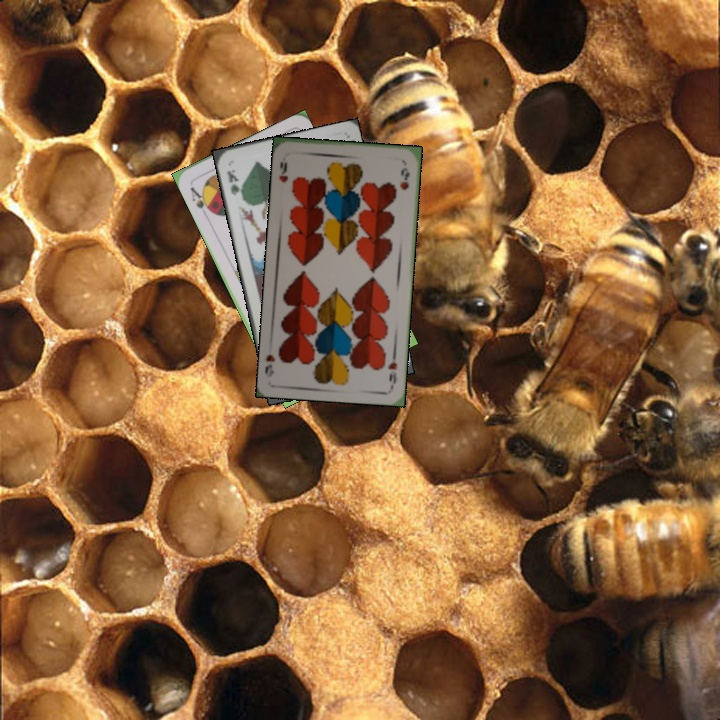GK: (222, 165, 246, 201)
H9: (384, 349, 400, 389), (275, 158, 291, 185)
SA: (186, 183, 215, 219)
